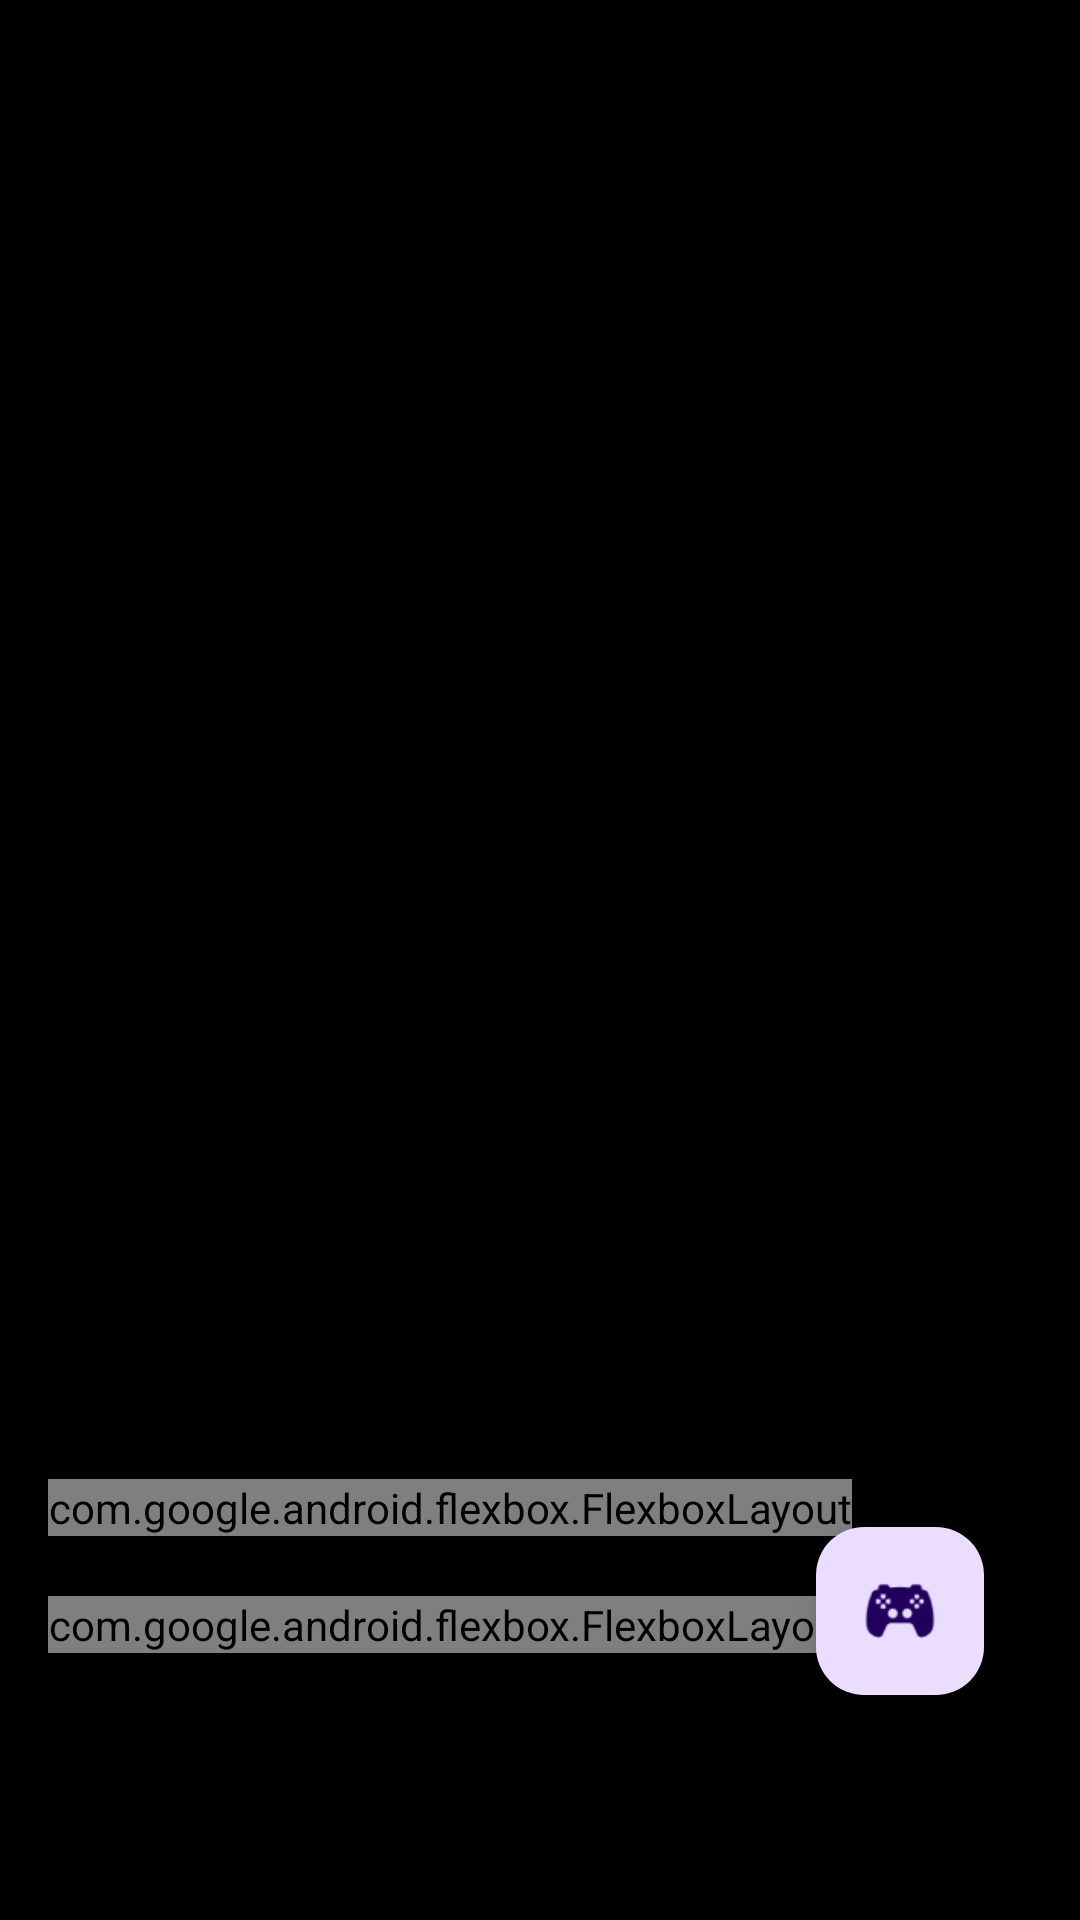

Where to tap for icons on this 1080 x 1920 app screen, as point (x, y):
Game Played: point (900, 1611)
